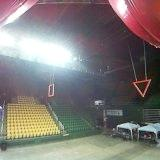Orange_Square_GShape: (48, 83, 55, 97)
Orange_Triangle_Gshape: (132, 78, 152, 97)
